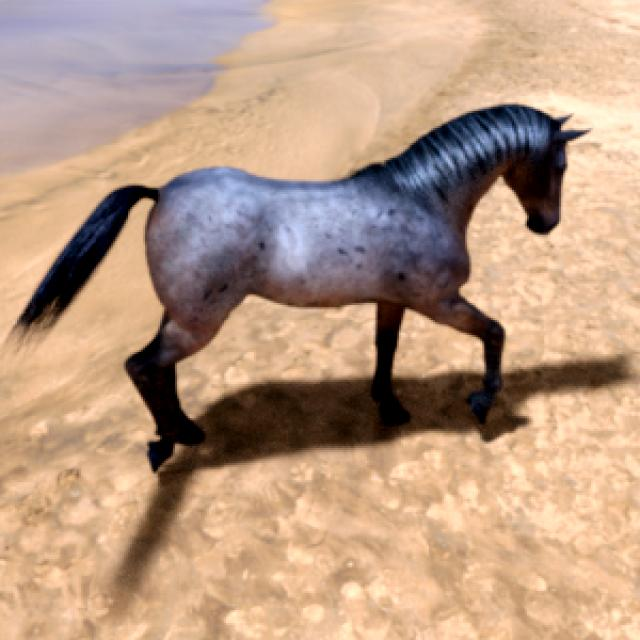horse: (16, 105, 585, 471)
